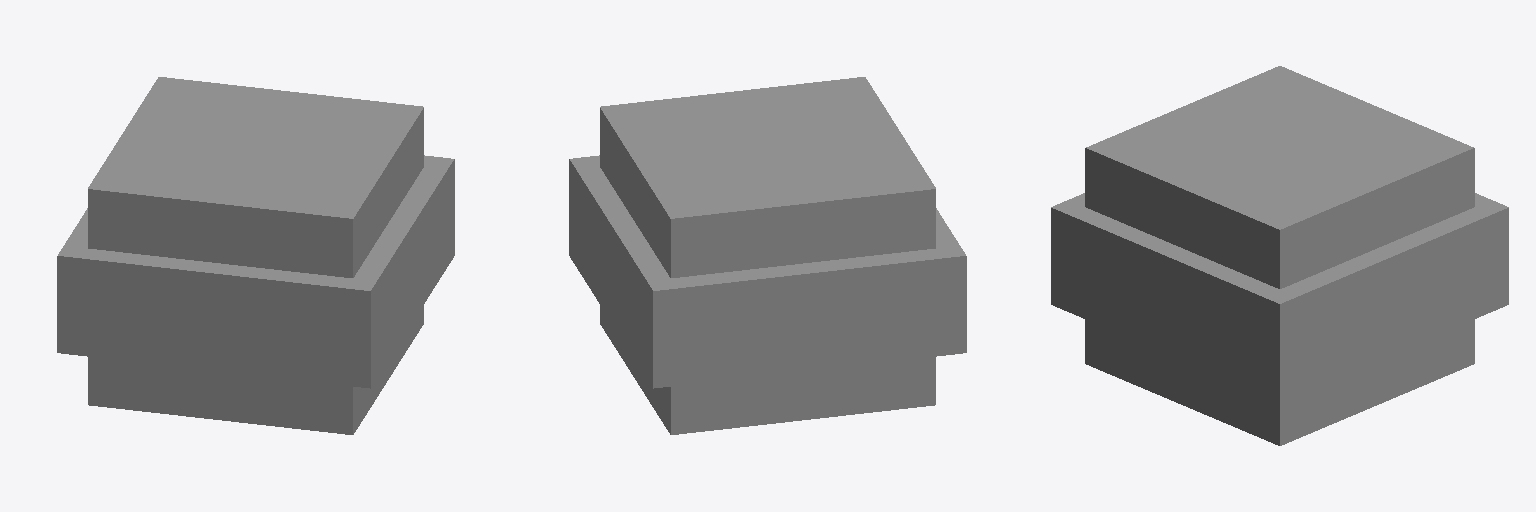
File: CubeBump.obj
3 views of the same model, side by side, from view 1: azimuth 30°, elevation 25°; view 2: azimuth 150°, elevation 25°; view 3: azimuth 270°, elevation 25° (orthographic).
Parts seen in each view (by area): view 1: CubeBumper.005_Cube.011, CubeBumper.004_Cube.007; view 2: CubeBumper.005_Cube.011, CubeBumper.004_Cube.007; view 3: CubeBumper.005_Cube.011, CubeBumper.004_Cube.007.
Boxes of the visible parts, <box> form: CubeBumper.005_Cube.011: <box>88,77,423,434</box>; CubeBumper.004_Cube.007: <box>57,155,454,388</box>; CubeBumper.005_Cube.011: <box>600,77,935,434</box>; CubeBumper.004_Cube.007: <box>569,155,966,388</box>; CubeBumper.005_Cube.011: <box>1085,66,1474,445</box>; CubeBumper.004_Cube.007: <box>1051,193,1508,400</box>.
Size of the model in its own units: 0.9605 by 0.5 by 0.9605.